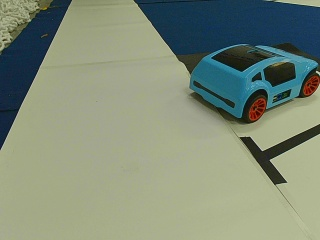car: (187, 42, 318, 124)
